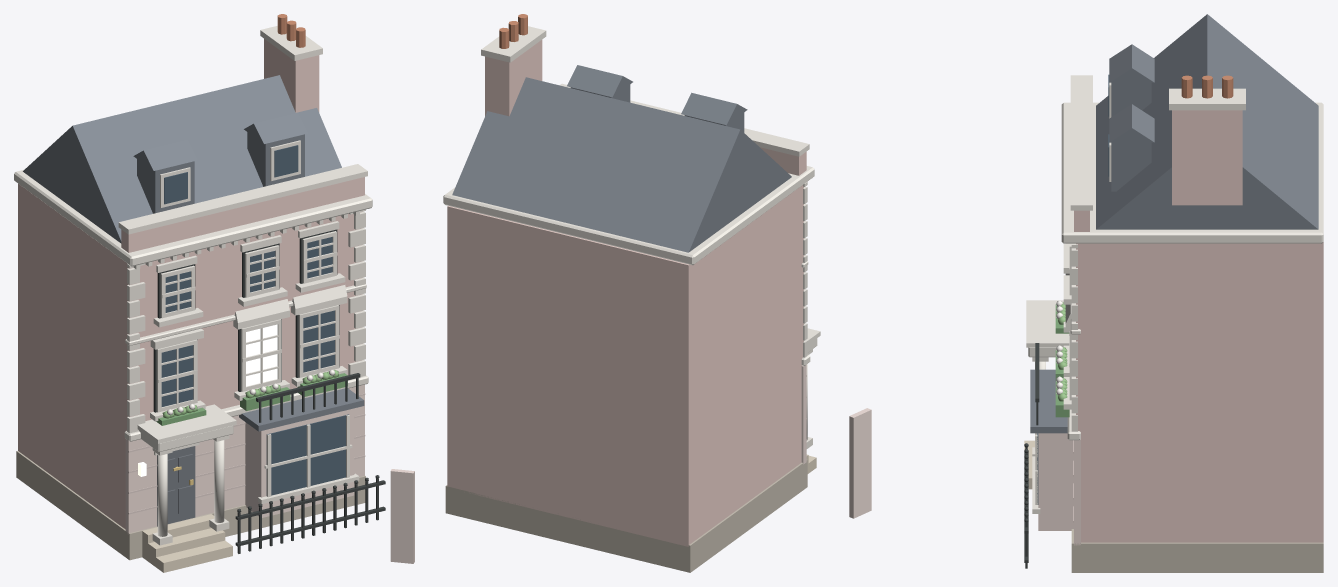
File: terrace-b-3.glb
The picture shows the model from 3 angles, left to right: view 1: azimuth 30°, elevation 25°; view 2: azimuth 150°, elevation 25°; view 3: azimuth 270°, elevation 25°; orthographic projection. The views are drawn at different scales.
Parts seen in each view (by area): view 1: terrace-b-3; view 2: terrace-b-3; view 3: terrace-b-3.
Part boxes in pixels (x1,y1,x2,y2): terrace-b-3: [14, 14, 414, 572]; terrace-b-3: [443, 14, 820, 572]; terrace-b-3: [849, 14, 1323, 572].
Size of the model in its own units: 3.08 by 5.32 by 4.69.
